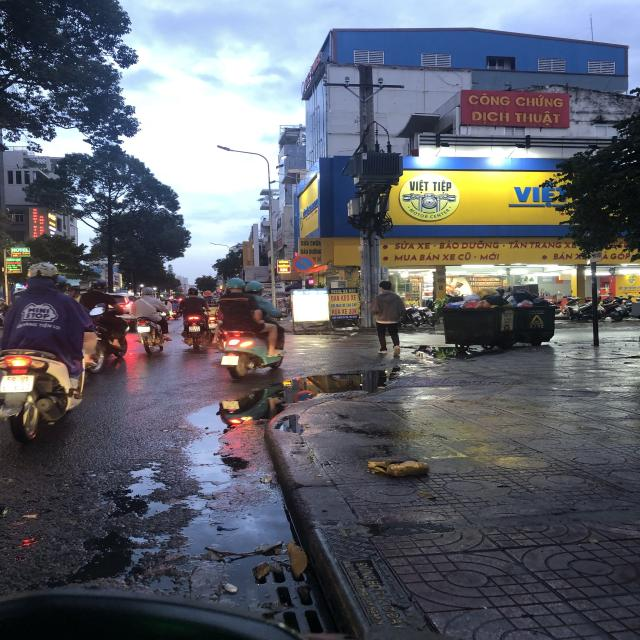Bien bao cam do xe: (290, 254, 319, 274)
